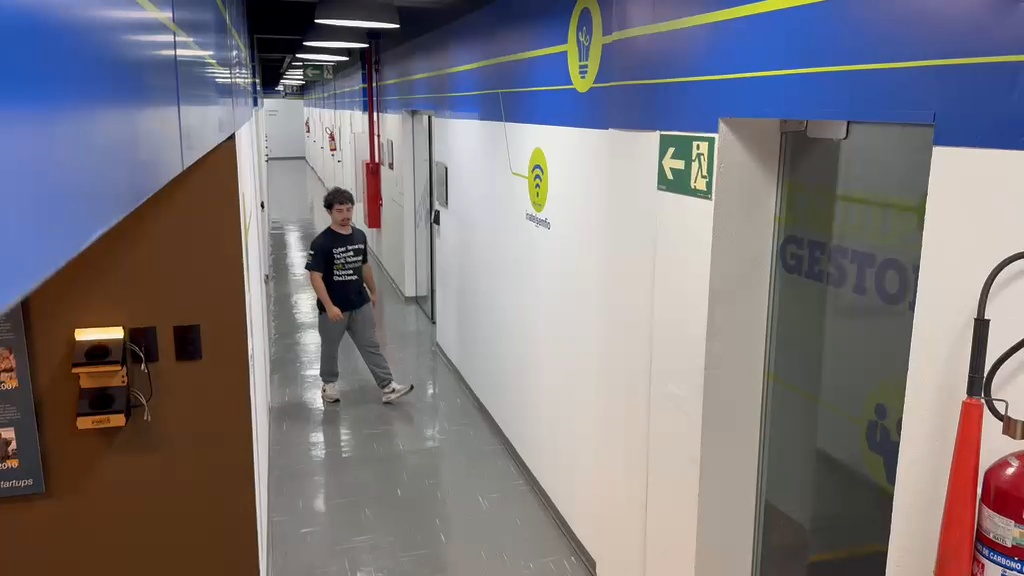person: (305, 187, 415, 409)
